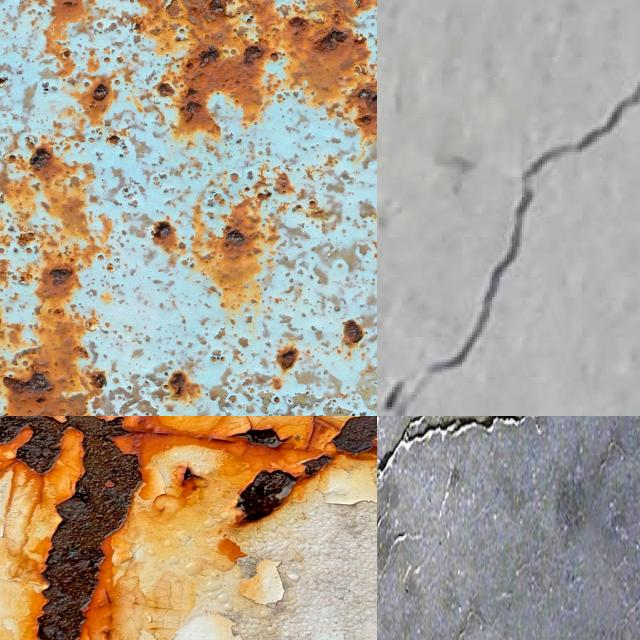Crack: (382, 79, 640, 416), (377, 416, 535, 489)
Pitting Corrosion: (0, 146, 118, 416), (193, 194, 268, 310), (81, 76, 112, 123), (151, 221, 177, 252), (344, 320, 364, 345), (277, 348, 297, 368), (168, 372, 184, 396)
Uniform Corrosion: (38, 416, 140, 640), (237, 470, 302, 523), (332, 416, 377, 454), (311, 455, 330, 472)
